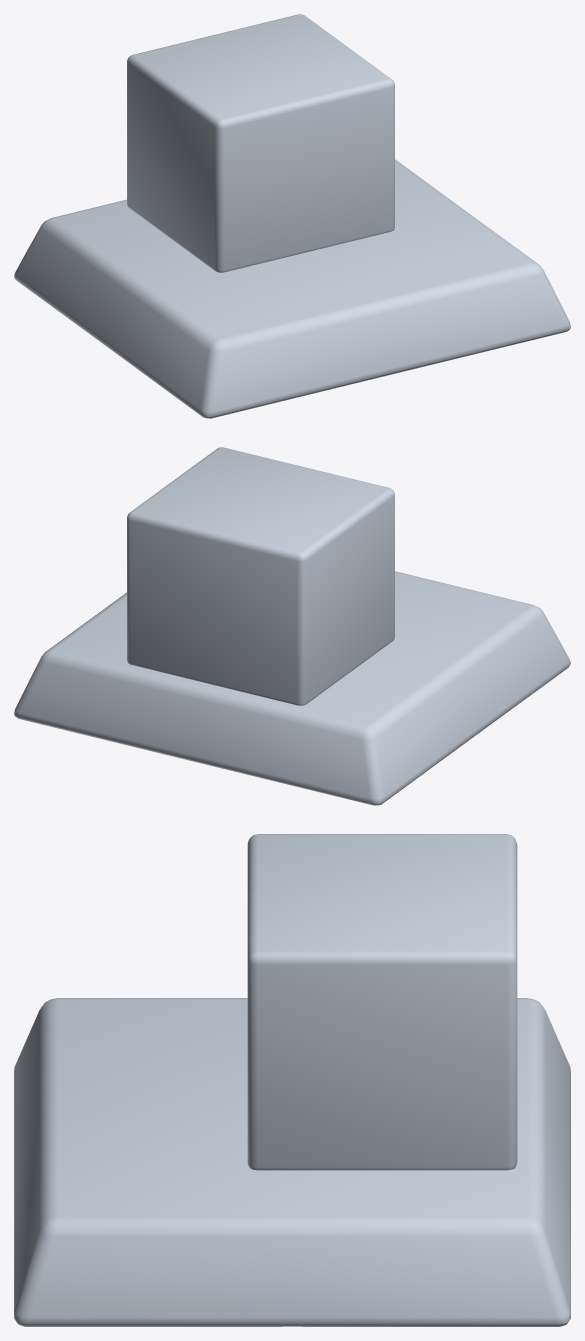
File: extractorhood.gltf
3 views of the same model, one above another, from view 1: azimuth 30°, elevation 25°; view 2: azimuth 150°, elevation 25°; view 3: azimuth 270°, elevation 25° (orthographic). The views are drawn at different scales.
Visible parts, largest first — view 1: HoodCanopy; view 2: HoodCanopy; view 3: HoodCanopy.
Boxes of the visible parts, bbox=[...] form: HoodCanopy: bbox=[14, 14, 570, 418]; HoodCanopy: bbox=[14, 447, 570, 805]; HoodCanopy: bbox=[14, 834, 570, 1326].
Bounding box in the file's own units: 0.9471 × 0.53 × 0.8676.
